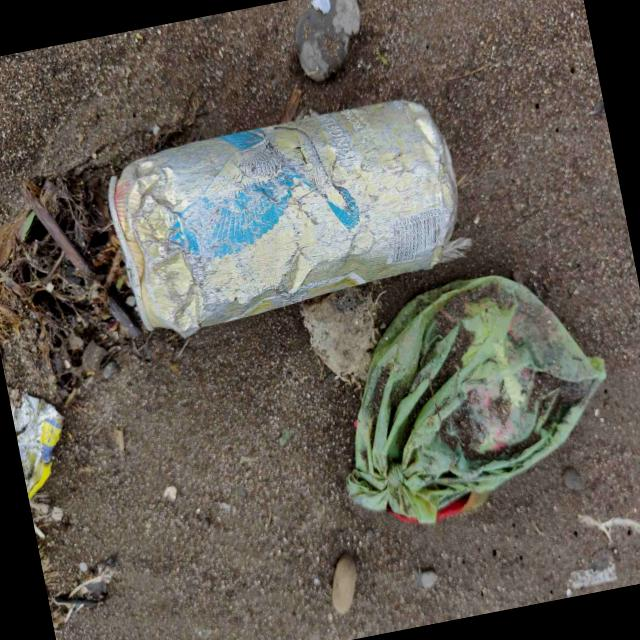bao_bi_thuc_pham: (10, 395, 62, 500)
kim_loai: (107, 100, 458, 336)
nhua: (38, 271, 41, 273)
rac_huu_co: (0, 179, 142, 343), (38, 546, 55, 586), (50, 606, 62, 636)
tui_ni_long: (347, 276, 607, 525)
